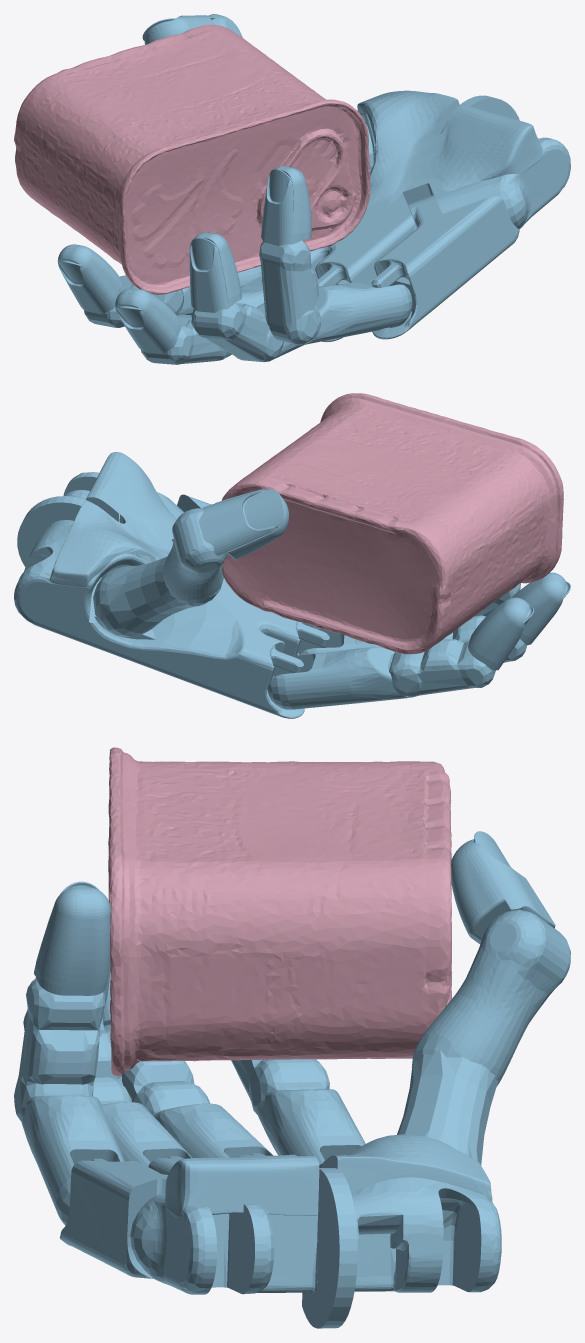
3 views of the same model, one above another, from view 1: azimuth 30°, elevation 25°; view 2: azimuth 150°, elevation 25°; view 3: azimuth 270°, elevation 25° (orthographic). The views are drawn at different scales.
Parts seen in each view (by area): view 1: world; view 2: world; view 3: world.
Part boxes in pixels (x1=…): world: x1=14, y1=14, x2=570, y2=364; world: x1=14, y1=393, x2=570, y2=718; world: x1=14, y1=747, x2=570, y2=1328.
Bounding box in the file's own units: 0.2016 × 0.105 × 0.1354.
